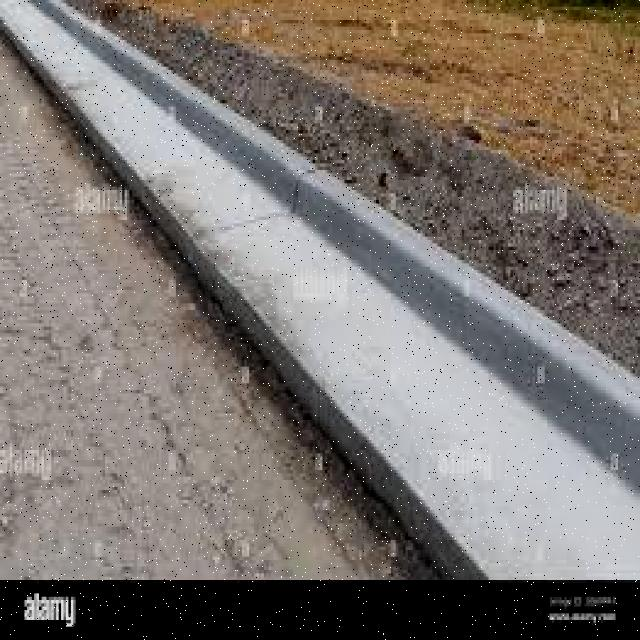curb: (189, 169, 640, 585), (72, 45, 319, 277), (4, 6, 136, 117)
